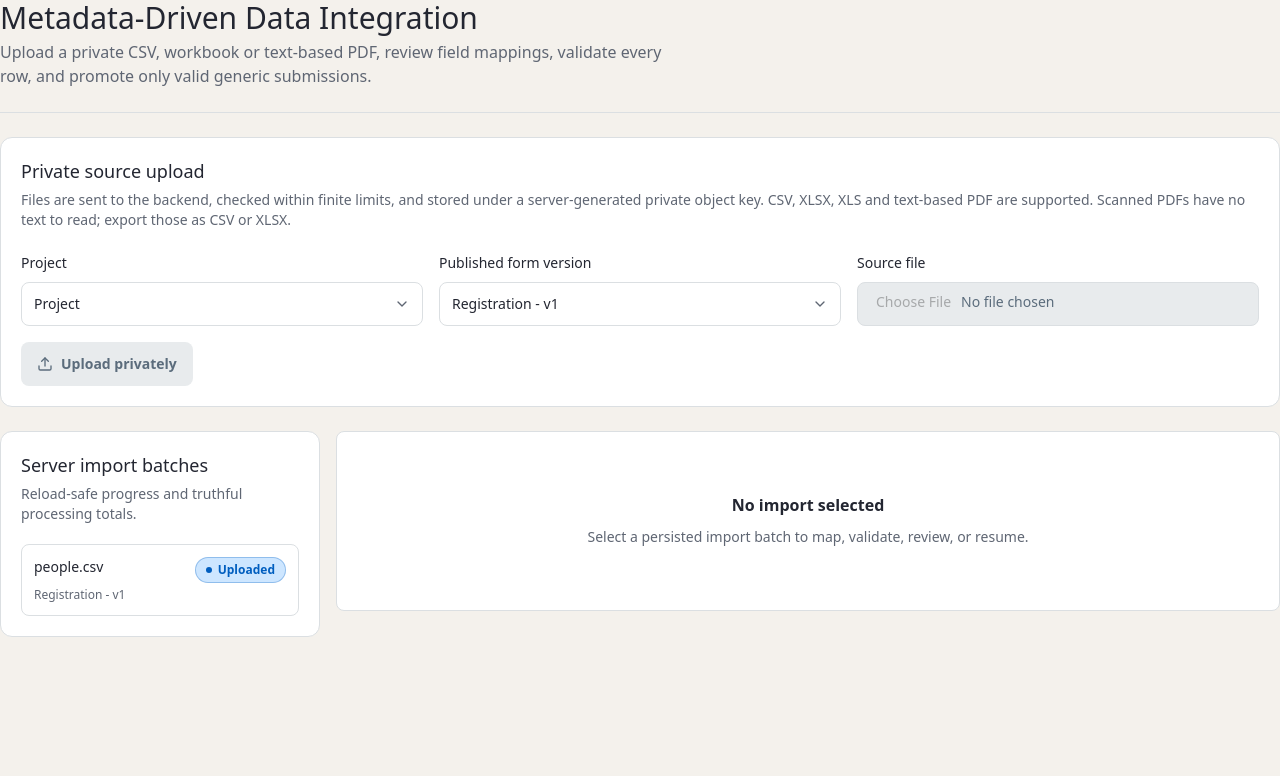
Test: import workspace AUTO_SMART_V2 suggestions › confirms one suggestion into the draft, announces what remains and keeps focus useful
Click the text "people.csv" at [69, 567], box [34,557,103,577]
(page scrolled)
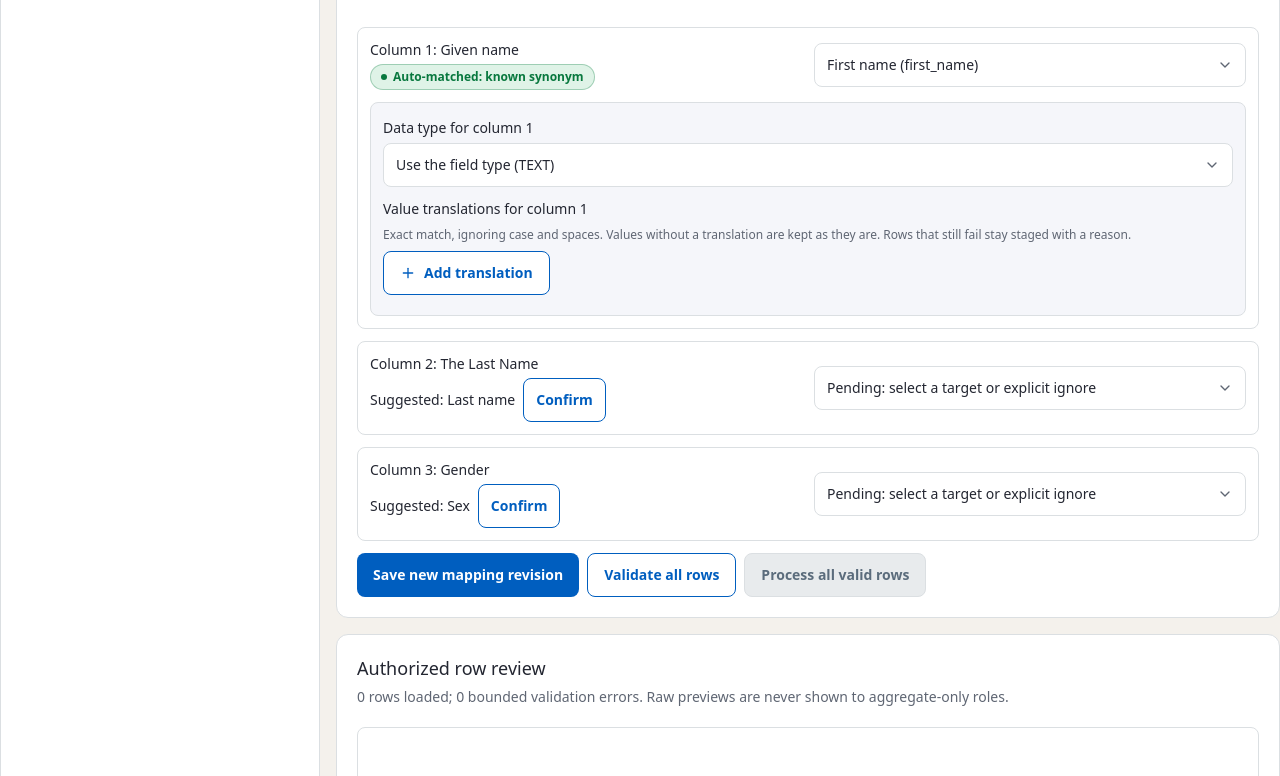
Check: the text "Column 1: Given name" is shown, box [370,40,519,59]
Click the button with aria-label "Confirm suggestion Last name for column 2" at [564, 400], box [523,378,606,422]
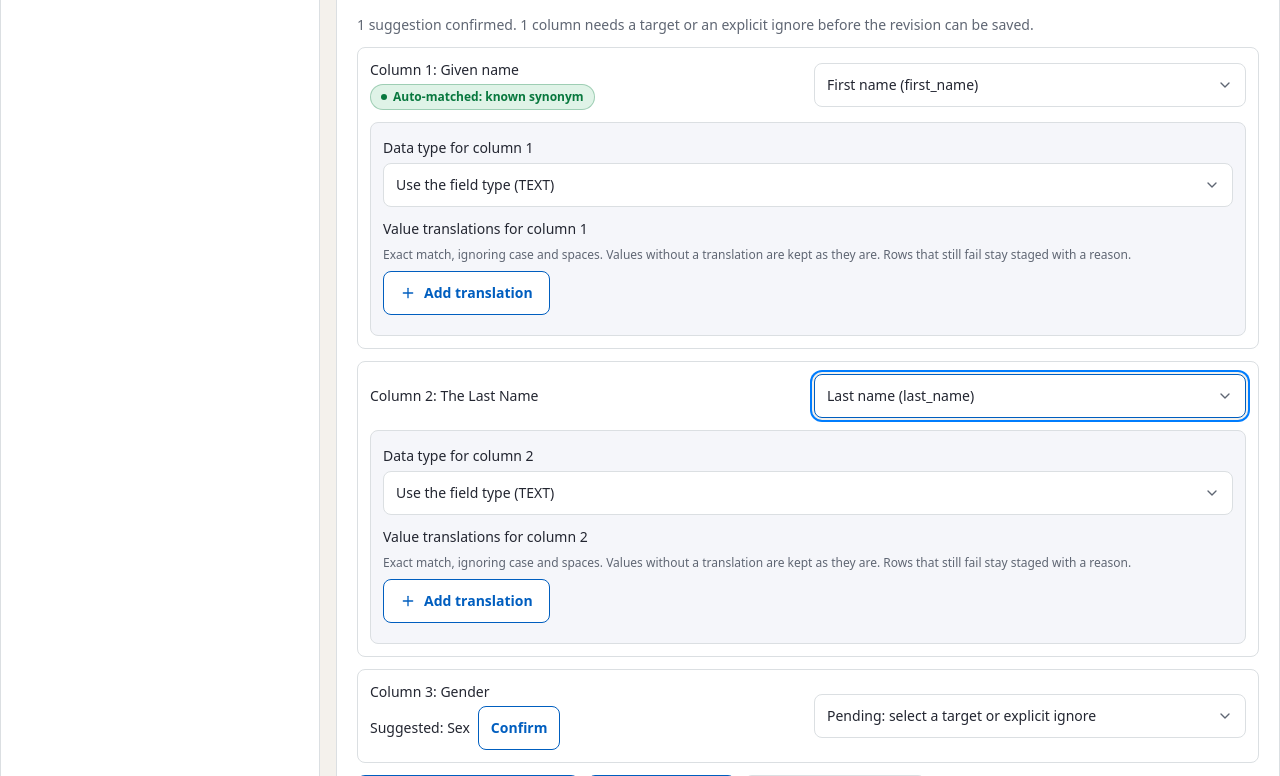
Check: the text "1 suggestion confirmed. 1 column needs a target or an explicit ignore before the revision can be saved." is shown, box [357,15,1034,34]
Check: the text "Suggested: Last name" is gone
